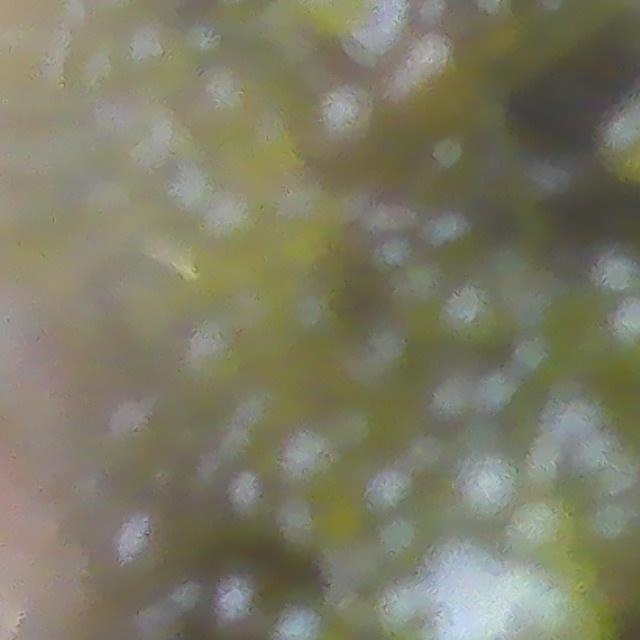SeaGrape: (509, 493, 578, 561)
